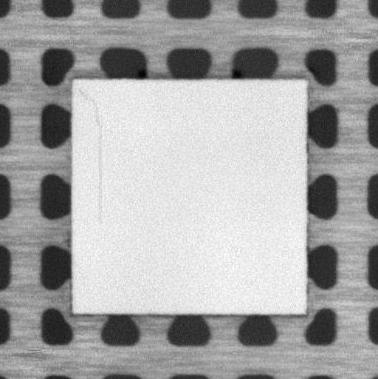DIE_CRACK: (81, 89, 104, 225)
